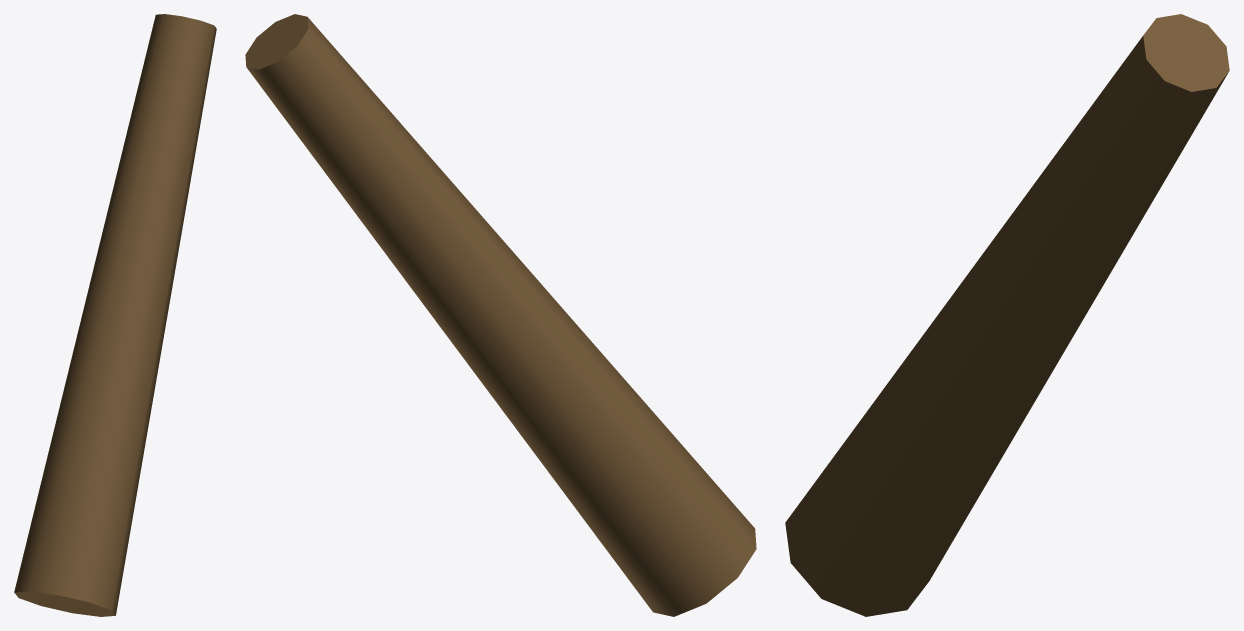
The model's file is branch-se.glb.
3 views of the same model, side by side, from view 1: azimuth 30°, elevation 25°; view 2: azimuth 150°, elevation 25°; view 3: azimuth 270°, elevation 25° (orthographic). The views are drawn at different scales.
Parts seen in each view (by area): view 1: Branch se; view 2: Branch se; view 3: Branch se.
Boxes of the visible parts, <box> form: Branch se: <box>14,14,216,616</box>; Branch se: <box>245,14,756,616</box>; Branch se: <box>785,14,1229,616</box>.
Bounding box in the file's own units: 15.57 × 24.8 × 13.63.
